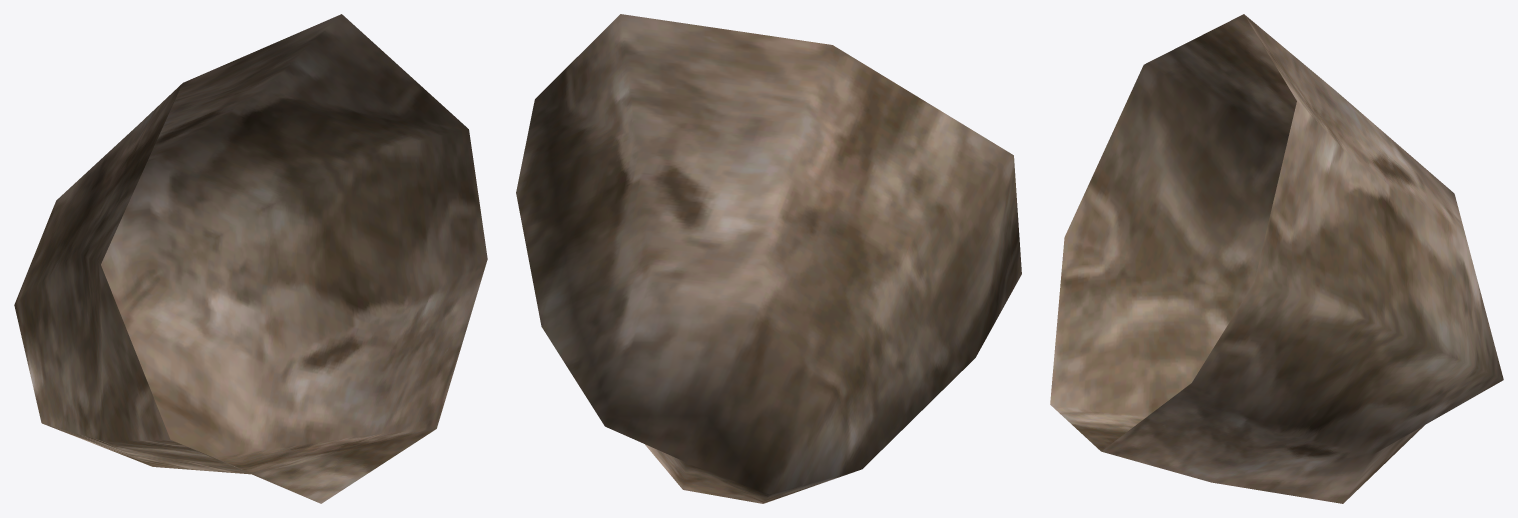
File: OVERHILL_A_01_ROCK43.fbx
3 renders of one model, left to right at view 1: azimuth 30°, elevation 25°; view 2: azimuth 150°, elevation 25°; view 3: azimuth 270°, elevation 25°, orthographic.
Parts seen in each view (by area): view 1: OVERHILL_A_01_ROCK43; view 2: OVERHILL_A_01_ROCK43; view 3: OVERHILL_A_01_ROCK43.
Part boxes in pixels (x1,y1,x2,y2): OVERHILL_A_01_ROCK43: (14, 14, 487, 503); OVERHILL_A_01_ROCK43: (516, 14, 1021, 503); OVERHILL_A_01_ROCK43: (1050, 14, 1503, 503).
Bounding box in the file's own units: 27147 × 26798 × 24769.
Materials: 1 (1 with a texture image).
